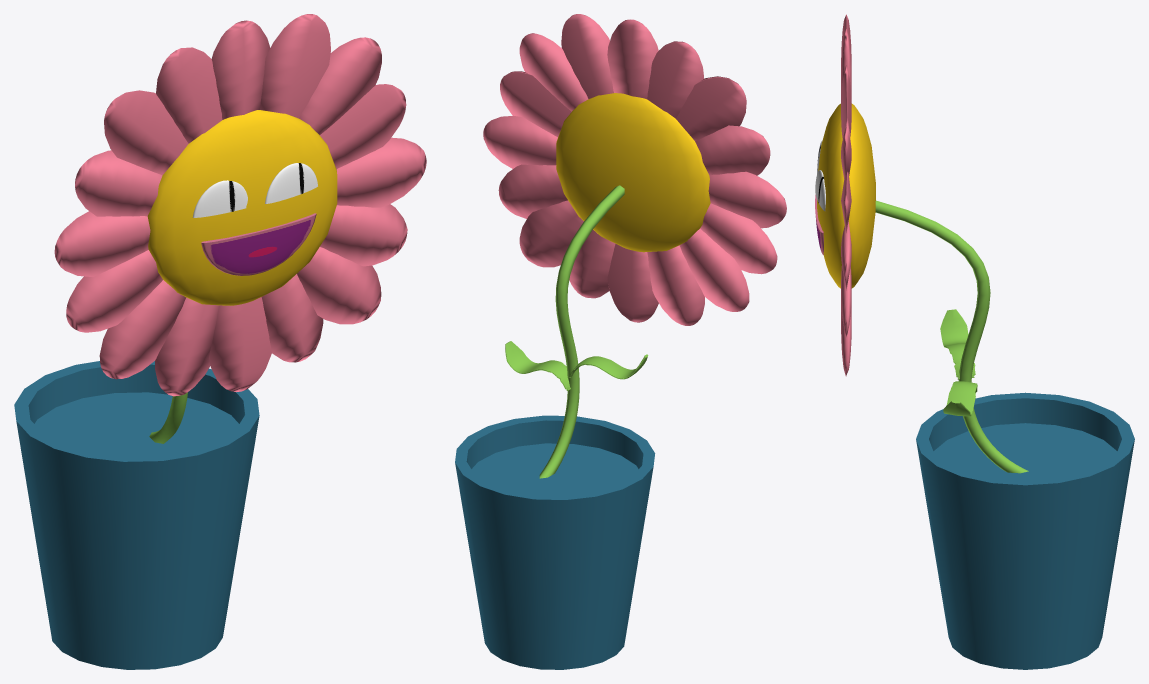
Rendered from leslie.obj.
3 renders of one model, left to right at view 1: azimuth 30°, elevation 25°; view 2: azimuth 150°, elevation 25°; view 3: azimuth 270°, elevation 25°, orthographic. The views are drawn at different scales.
Visible parts, largest first — view 1: group1_pasted__pSphere2, pCylinder1, pasted__pSphere4 group18, pSphere3, pasted__pSphere3 group17, defaultBrush1Main defaultBrush1MeshGroup; view 2: group1_pasted__pSphere2, pCylinder1, defaultBrush1Main defaultBrush1MeshGroup, pasted__pasted__defaultBrush1Main pasted__pasted__defaultBrush1M, pasted__defaultBrush1Main pasted__defaultBrush1MeshGroup group16; view 3: pCylinder1, group1_pasted__pSphere2, defaultBrush1Main defaultBrush1MeshGroup, pasted__defaultBrush1Main pasted__defaultBrush1MeshGroup group16, pasted__pasted__defaultBrush1Main pasted__pasted__defaultBrush1M.
Boxes of the visible parts, box(x1,y1,x2,y2) form: group1_pasted__pSphere2: box(54, 14, 426, 396); pCylinder1: box(14, 361, 259, 669); pasted__pSphere4 group18: box(201, 213, 316, 275); pSphere3: box(192, 180, 247, 217); pasted__pSphere3 group17: box(265, 163, 317, 203); defaultBrush1Main defaultBrush1MeshGroup: box(149, 392, 187, 443); group1_pasted__pSphere2: box(483, 14, 786, 325); pCylinder1: box(455, 415, 655, 669); defaultBrush1Main defaultBrush1MeshGroup: box(539, 185, 624, 478); pasted__pasted__defaultBrush1Main pasted__pasted__defaultBrush1M: box(505, 341, 570, 390); pasted__defaultBrush1Main pasted__defaultBrush1MeshGroup group16: box(569, 354, 648, 379); pCylinder1: box(916, 392, 1134, 669); group1_pasted__pSphere2: box(817, 14, 875, 376); defaultBrush1Main defaultBrush1MeshGroup: box(875, 200, 1028, 473); pasted__defaultBrush1Main pasted__defaultBrush1MeshGroup group16: box(940, 309, 975, 379); pasted__pasted__defaultBrush1Main pasted__pasted__defaultBrush1M: box(943, 381, 977, 416).
Bounding box in the file's own units: 1.51 × 2.65 × 1.26.
